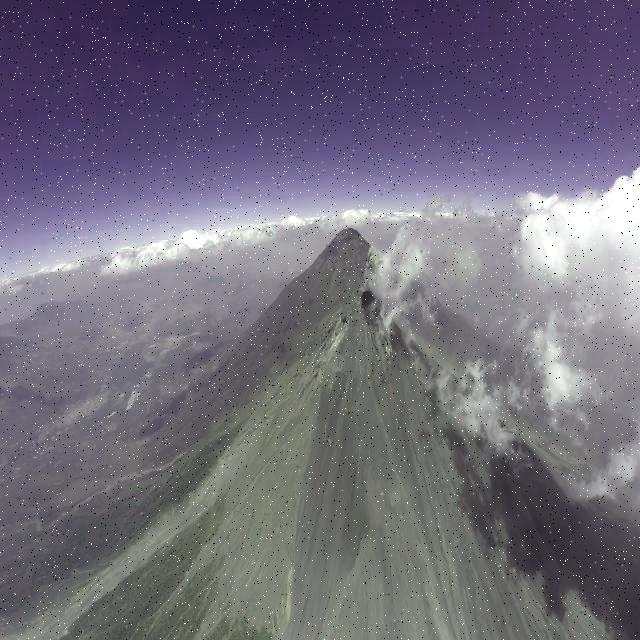Plume: (362, 246, 384, 292)
Summit: (307, 289, 394, 362)
